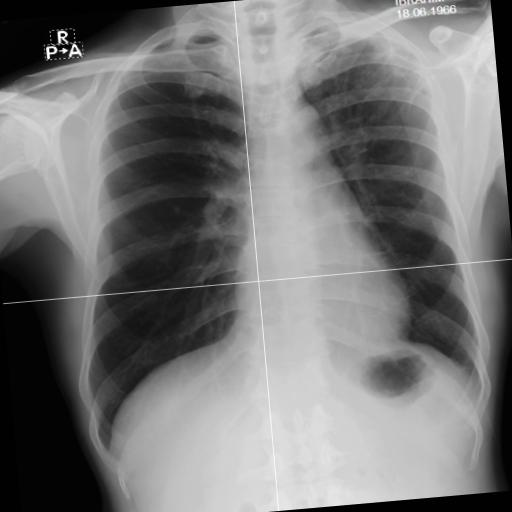normal: (41, 0, 501, 461)
